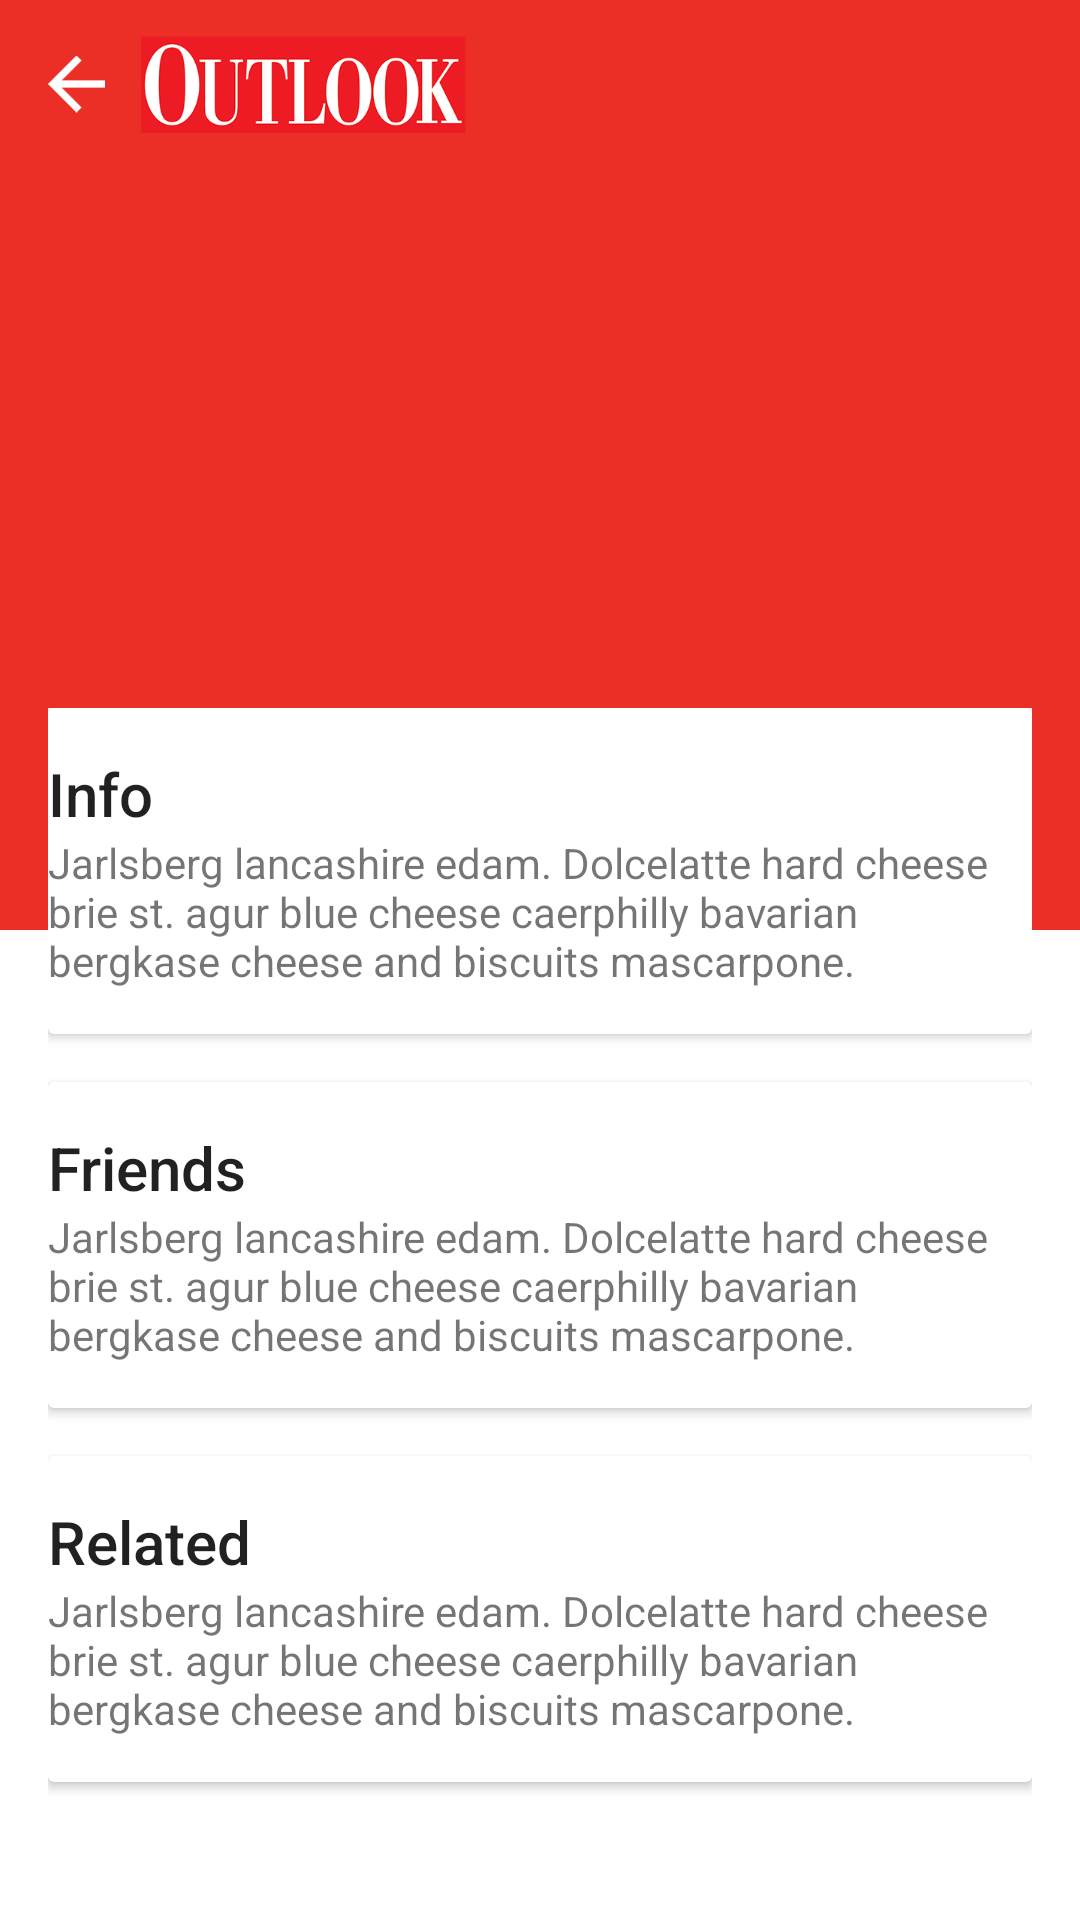

Point at icon controls on the screen. Image size 1080w x 1920h, points as (x=x, y=y).
back: (x=76, y=84)
